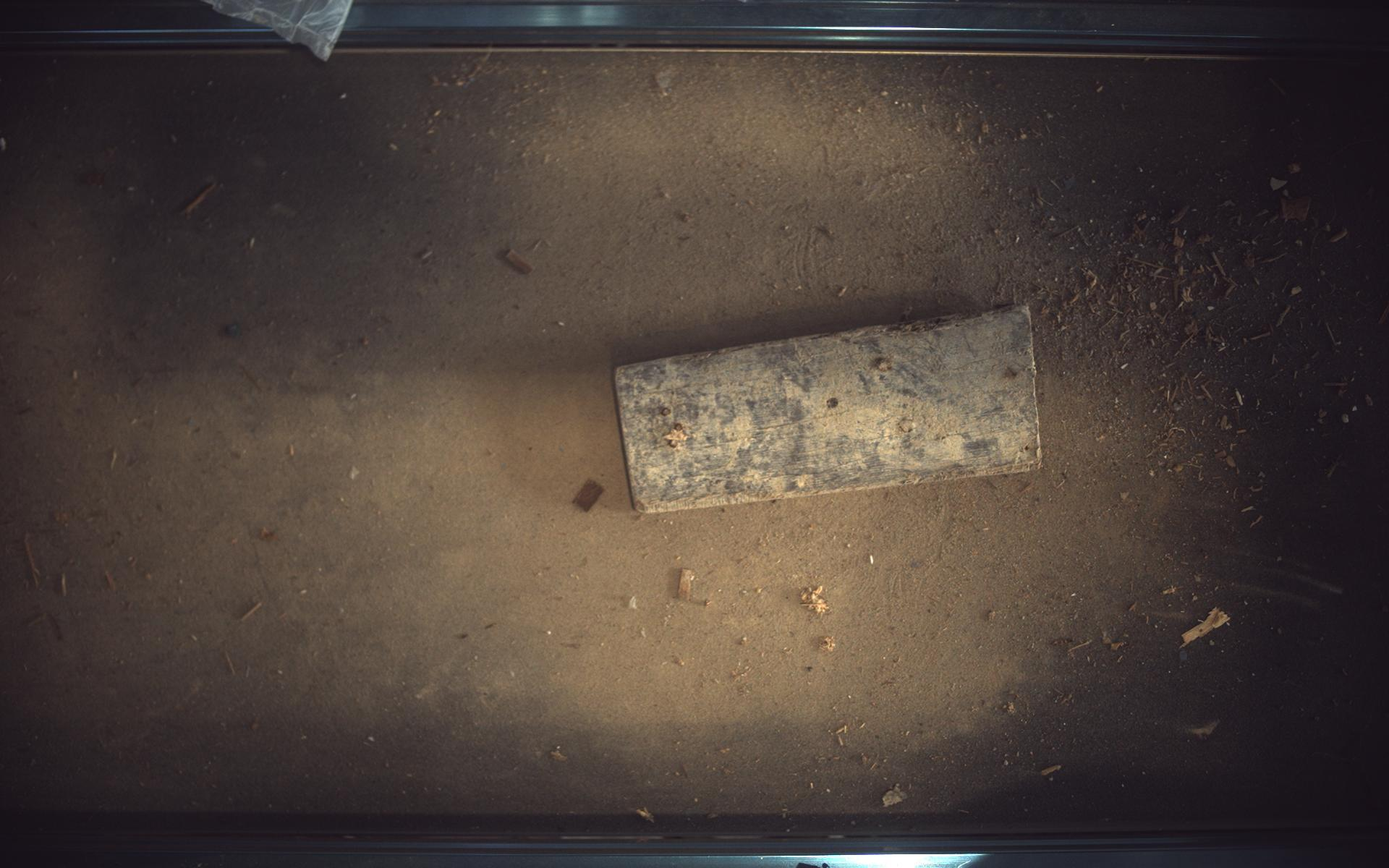wood: (616, 305, 1042, 513)
